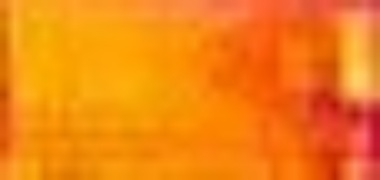Hotspot: (327, 9, 378, 179)
